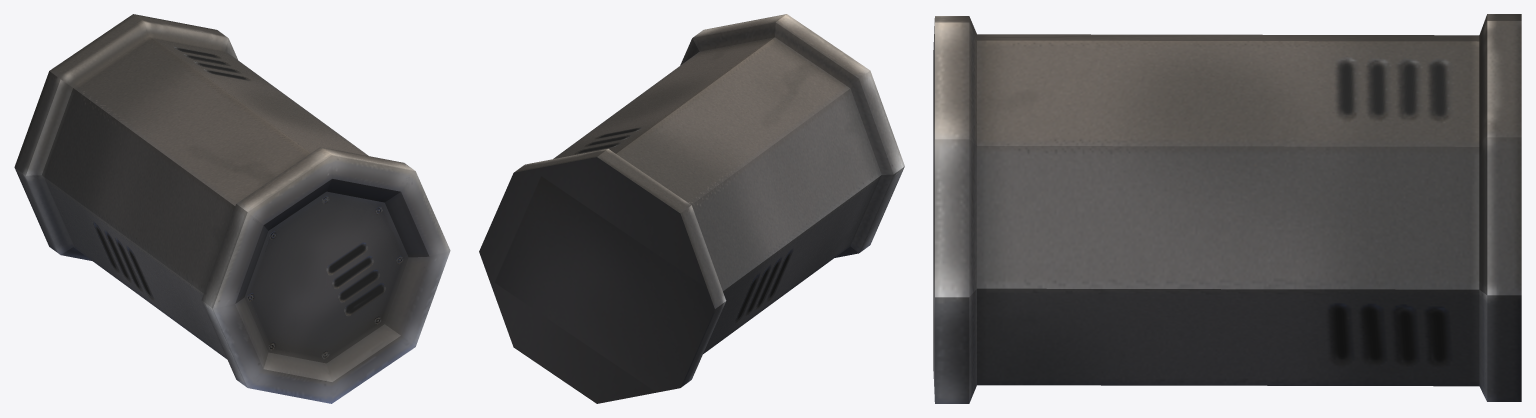
Rendered from prop-barrel-01.glb.
The picture shows the model from 3 angles, left to right: view 1: azimuth 30°, elevation 25°; view 2: azimuth 150°, elevation 25°; view 3: azimuth 270°, elevation 25°; orthographic projection. The views are drawn at different scales.
Parts seen in each view (by area): view 1: Circle; view 2: Circle; view 3: Circle.
Part boxes in pixels (x1,y1,x2,y2): Circle: (14, 14, 450, 403); Circle: (479, 14, 904, 403); Circle: (933, 14, 1521, 403).
Size of the model in its own units: 1.02 by 1 by 1.42.
1 material, 1 textured.
